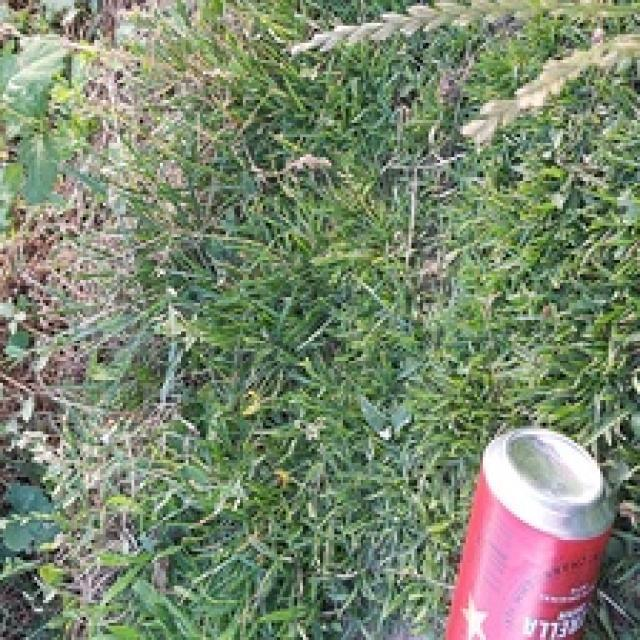recyclable: (446, 426, 619, 640)
